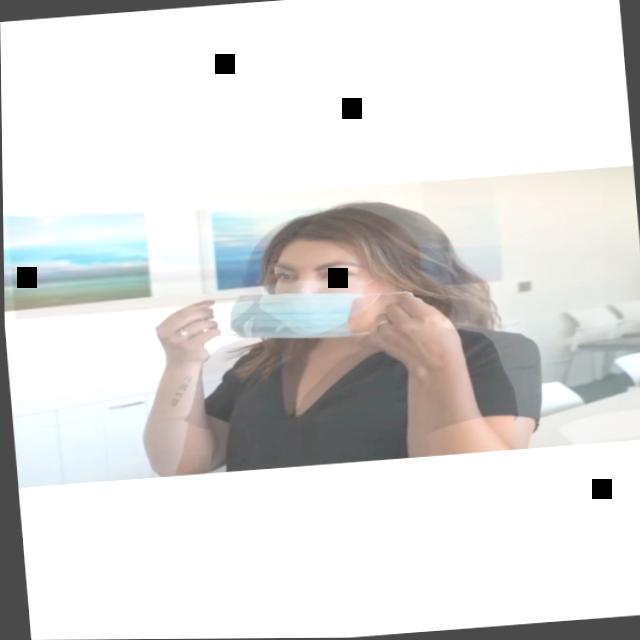NO-Mask: (247, 226, 382, 341)
